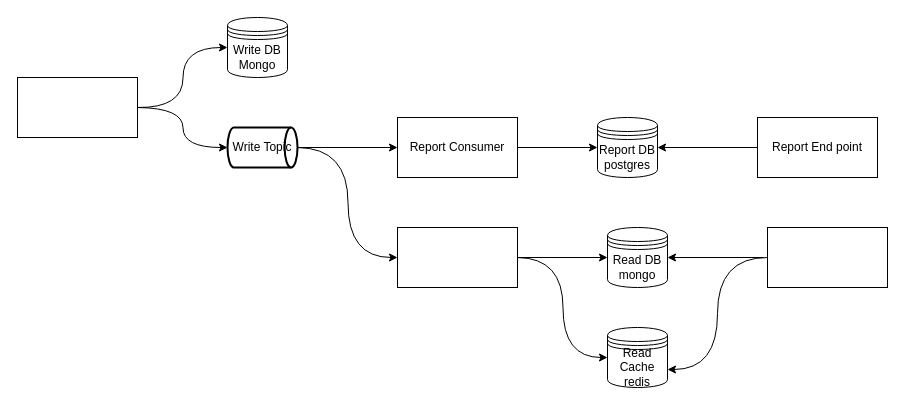
This 905x406 diagram has some shape labels left out. Here are the shapes that lost their labels. From the top down, the centre of each, then its label:
At [77,107]: "PersonWrite".
At [457,257]: "Read Consumer".
At [827,257]: "Person Read".
